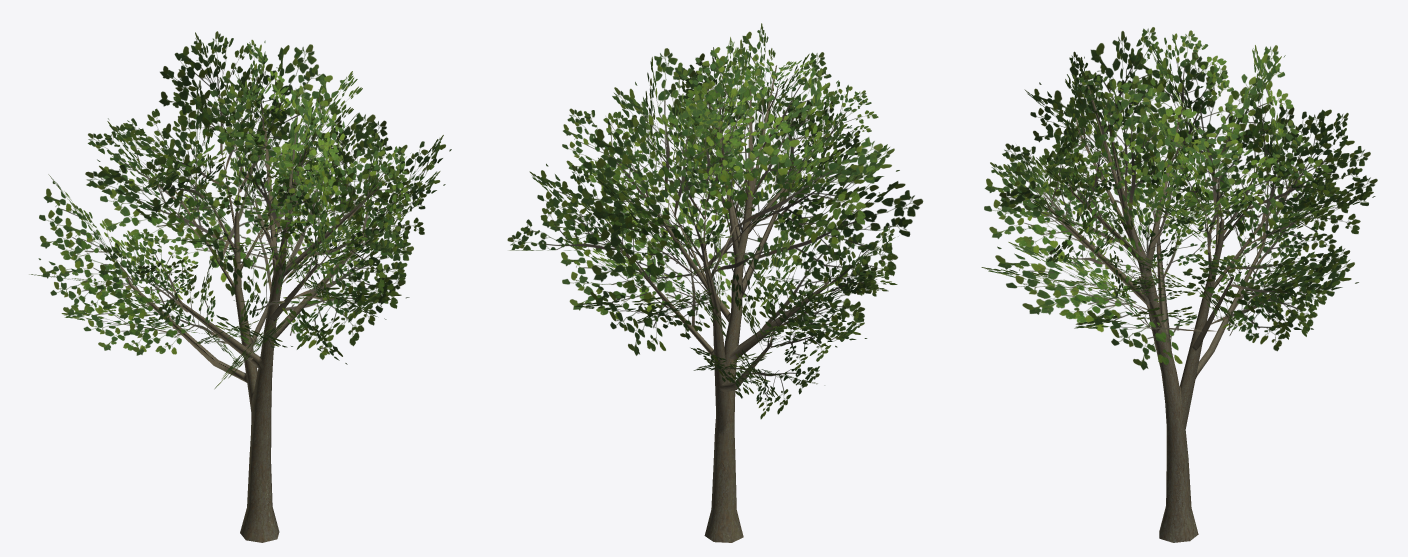
The picture shows the model from 3 angles, left to right: view 1: azimuth 30°, elevation 25°; view 2: azimuth 150°, elevation 25°; view 3: azimuth 270°, elevation 25°; orthographic projection. The views are drawn at different scales.
Visible parts, largest first — view 1: um_t1_pl024_model_lod0Shape; view 2: um_t1_pl024_model_lod0Shape; view 3: um_t1_pl024_model_lod0Shape.
Part boxes in pixels (box(x1,y1,x2,y2)): um_t1_pl024_model_lod0Shape: box(29, 31, 451, 542); um_t1_pl024_model_lod0Shape: box(507, 23, 923, 542); um_t1_pl024_model_lod0Shape: box(981, 27, 1377, 542).
Bounding box in the file's own units: 7.89 × 9.92 × 7.48.
Materials: 2 (2 with a texture image).
